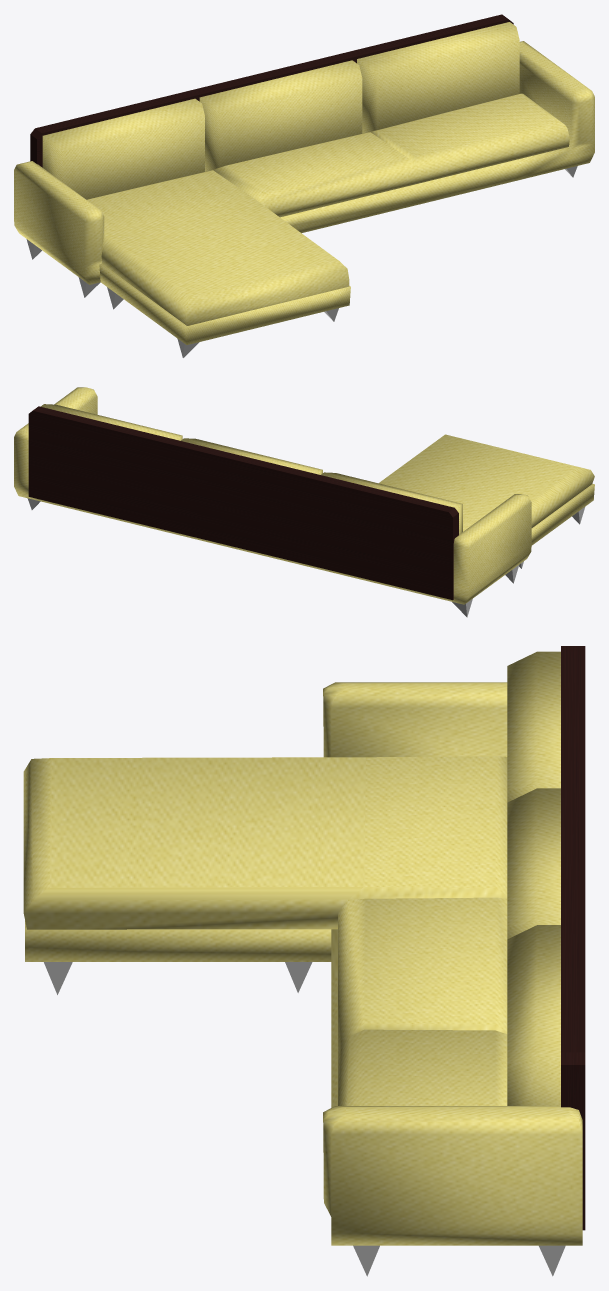
The model's file is Chaise_Sofa_B_04.FBX.
3 renders of one model, top to bottom at view 1: azimuth 30°, elevation 25°; view 2: azimuth 150°, elevation 25°; view 3: azimuth 270°, elevation 25°, orthographic. The views are drawn at different scales.
Parts seen in each view (by area): view 1: Chaise_Sofa_B; view 2: Chaise_Sofa_B; view 3: Chaise_Sofa_B.
Boxes of the visible parts, <box> form: Chaise_Sofa_B: <box>14,14,594,357</box>; Chaise_Sofa_B: <box>14,387,594,617</box>; Chaise_Sofa_B: <box>23,646,585,1276</box>.
Size of the model in its own units: 685 by 157 by 366.
